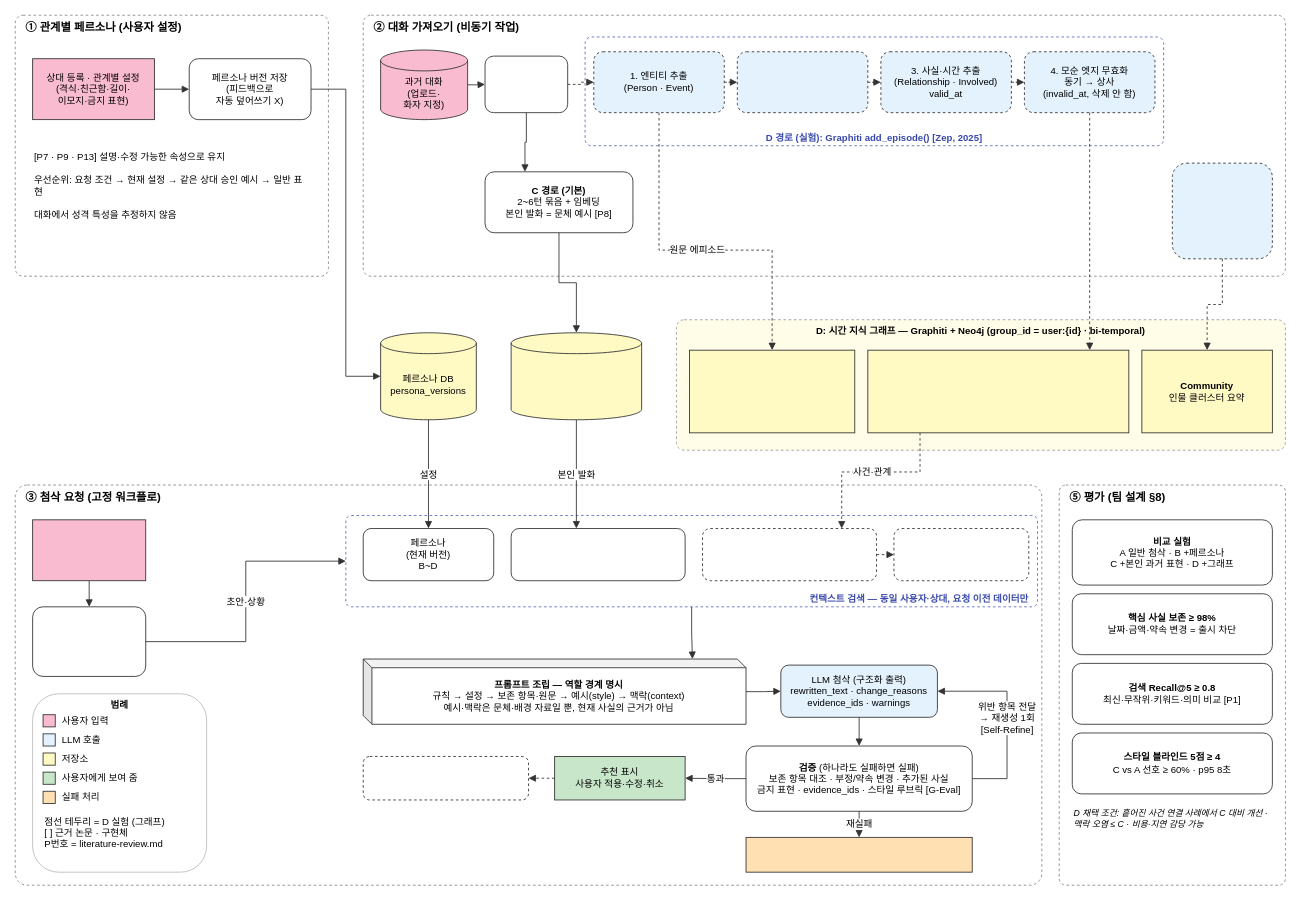
The diagram is 1301 pixels wide and 900 high, and some of its shapes have lost their labels. Each missing label, with the centre of its shape:
"2. 엔티티 해소 박지현 = 지현 팀장님 = 팀장님" goes at (x=802, y=82).
"D 배치 커뮤니티 요약 [GraphRAG, P5]" goes at (x=1221, y=210).
"Entity · Fact 관계: Person → Person (말투·호칭·친밀도) 사건: Person → Event (상태·중요도)" goes at (x=998, y=391).
"Episode 원문 메시지 · 시각" goes at (x=772, y=391).
"episodes PostgreSQL + pgvector (출처 메시지 ID·시점)" goes at (x=576, y=376).
"문체 예시 kNN [KATE] 같은 상대 본인 발화, top-k 3~5 purpose=style · C~D" goes at (x=597, y=554).
"사실 맥락 하이브리드 검색 [Zep · HippoRAG] 상대 노드 중심 purpose=context · D만" goes at (x=789, y=554).
"상대 선택 + 초안 + 상황 (입력)" goes at (x=89, y=550).
"의도·보존 항목 추출 날짜·수량·사람 가능/불가·약속" goes at (x=89, y=641).
"재실패 · 모델 장애 → 원문 유지 + 실패 표시" goes at (x=858, y=854).
"재정렬 [Generative Agents] 최근성·중요도·관련성" goes at (x=961, y=554).
"파싱 비식별화 중복 제거" goes at (x=526, y=84).
"피드백 기록 (동의 시) 적용 여부·수정량·거절 사유" goes at (x=445, y=778).
